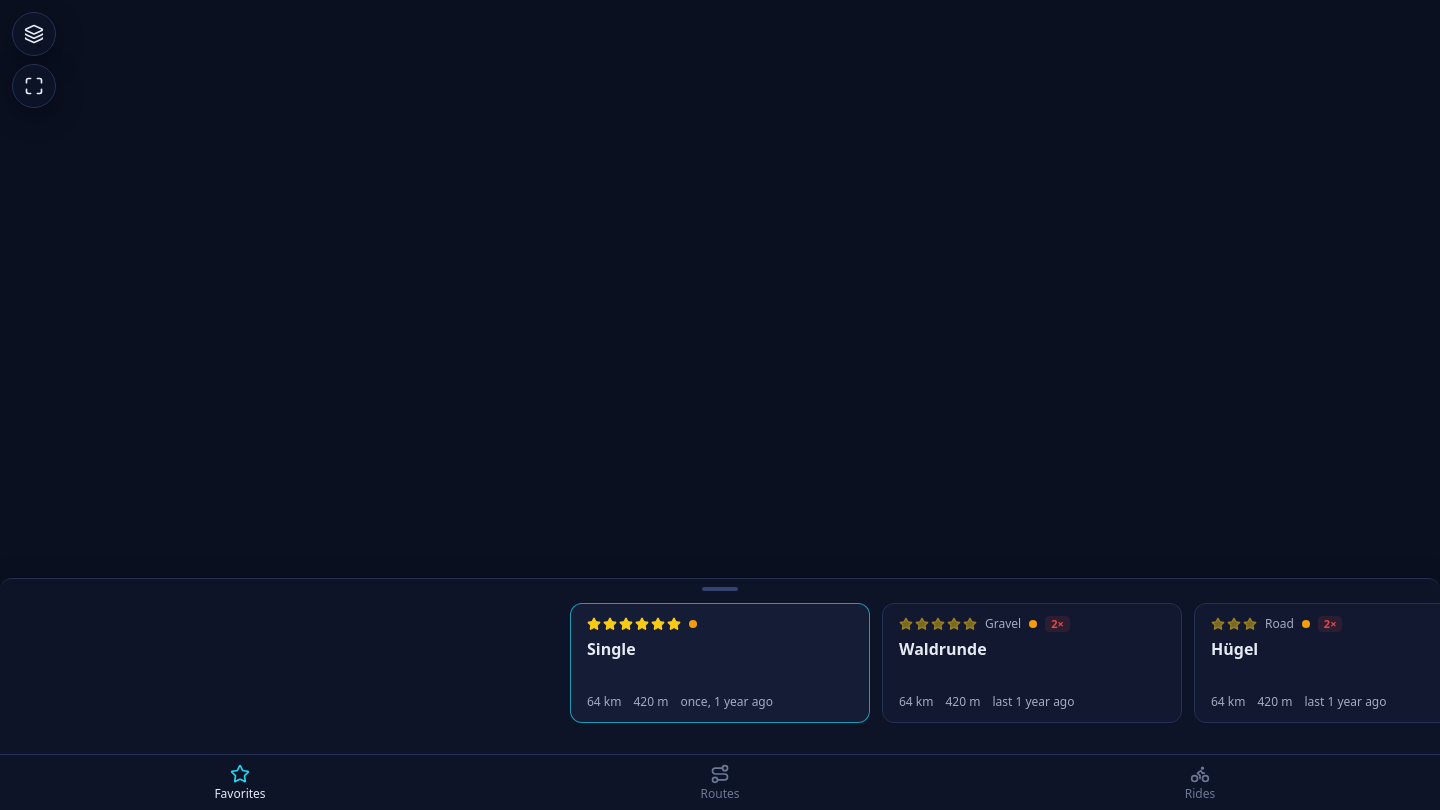
Test case: MobileApp › switches tabs and searches within one
Expected: the list named "Swipe through routes" is shown, 570,603 -> 1439,723
Click the button "Rides" at (1200, 782), box 960,755 -> 1439,809
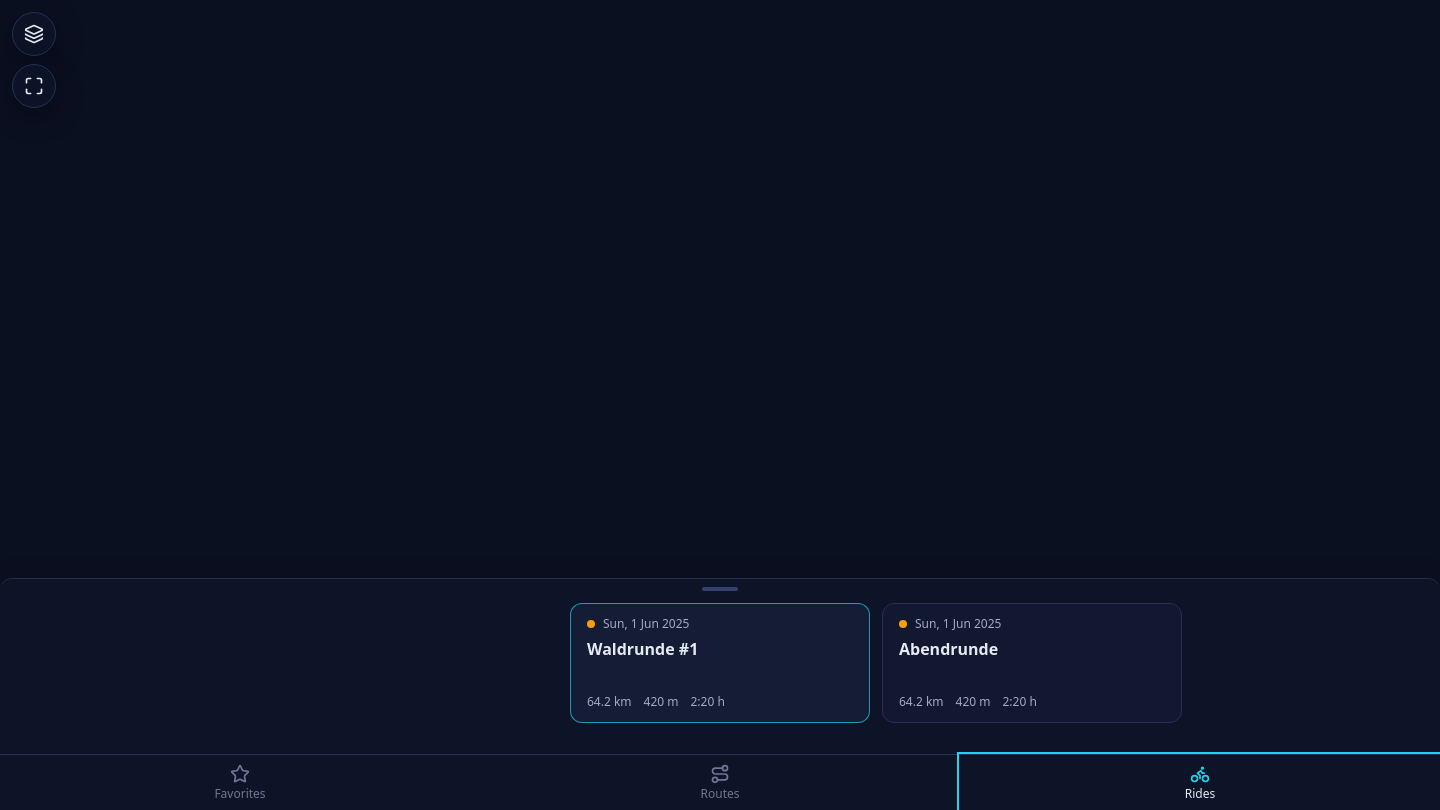
Result: the text "Abendrunde" is shown at 899,638 -> 998,660
Click the button named "Expand panel" at (720, 589), box 0,579 -> 1439,599
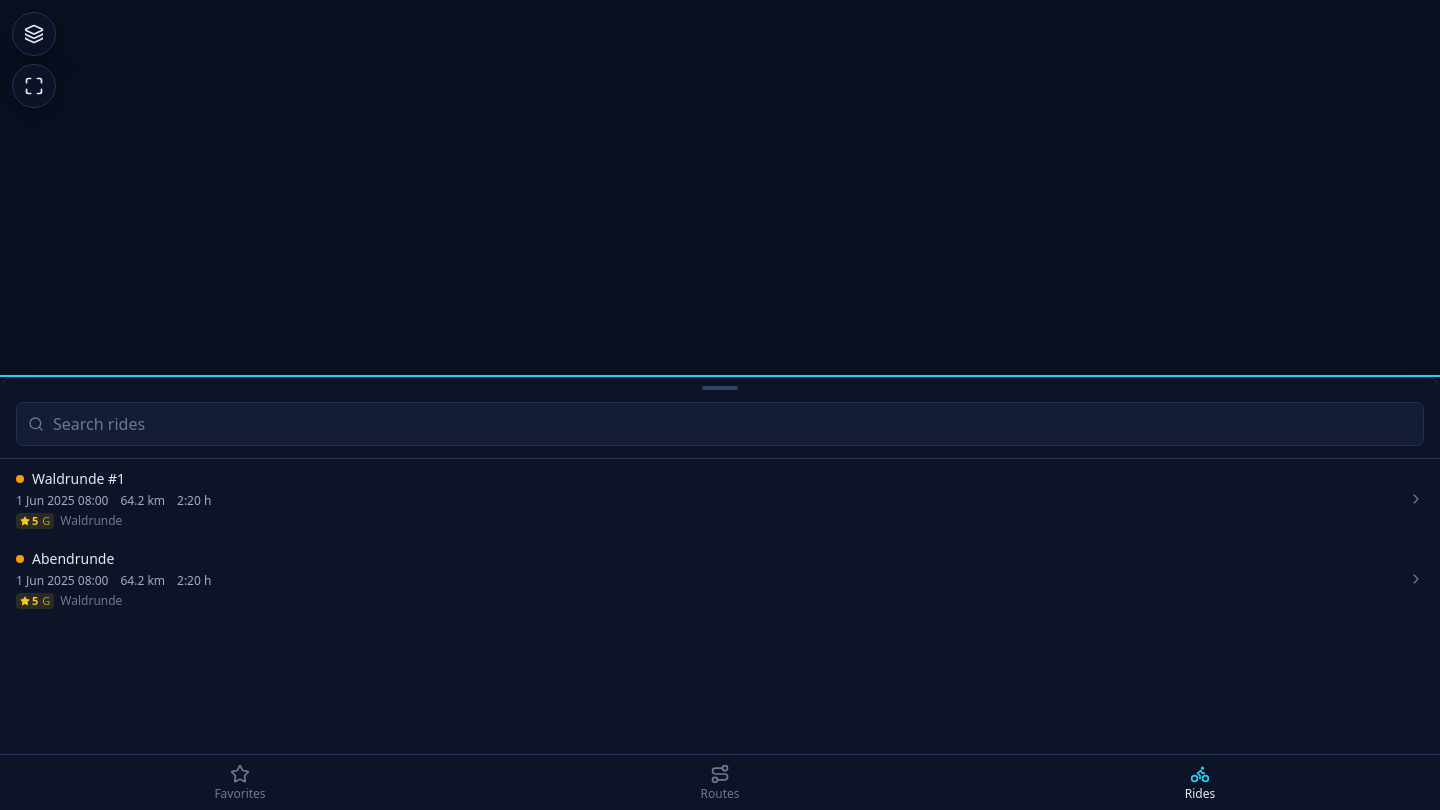
Type "abend" into the search field labelled "Search rides" at (720, 424), box 16,402 -> 1424,446
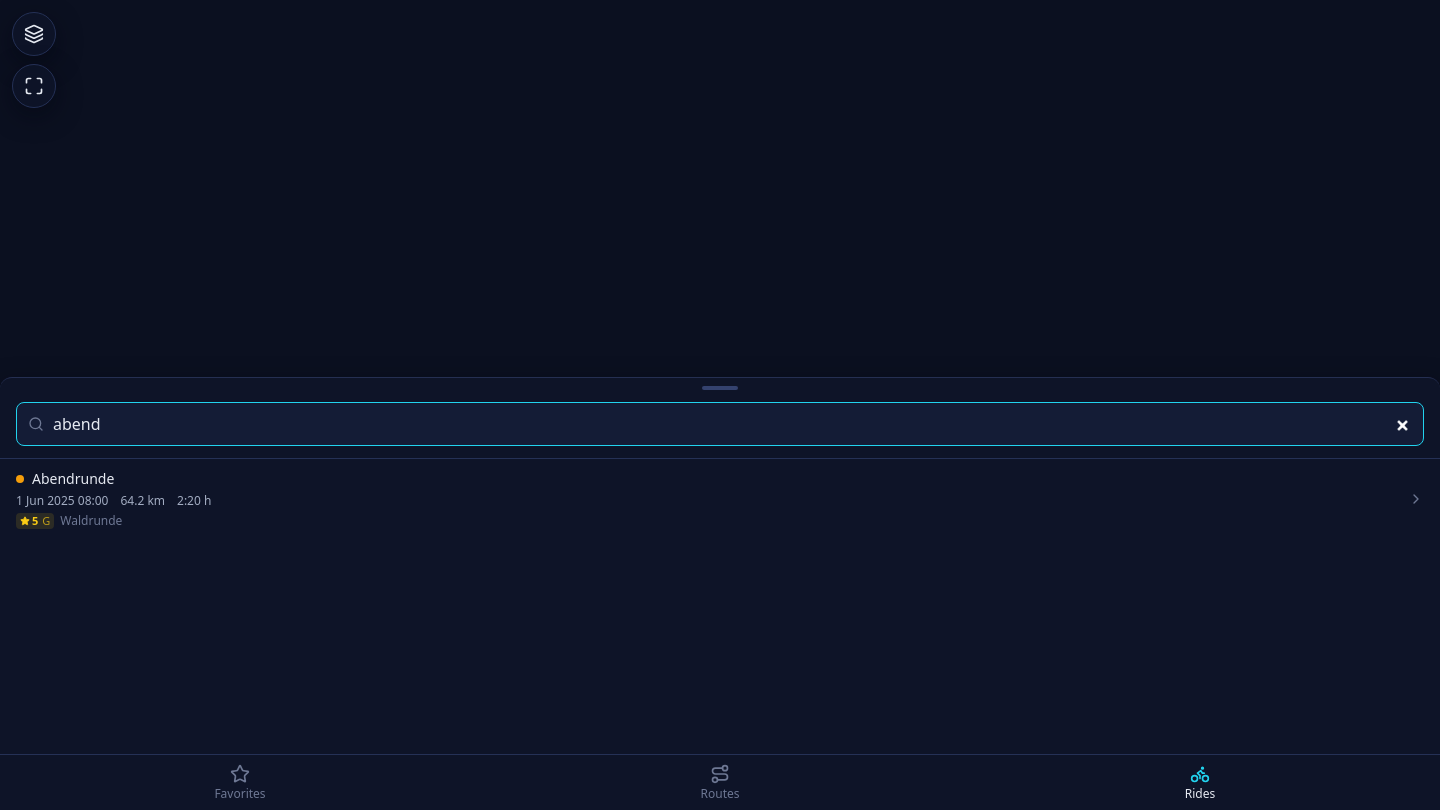
Result: the text "Abendrunde" is shown at 32,469 -> 114,489
Result: the button "Waldrunde #1" is gone
